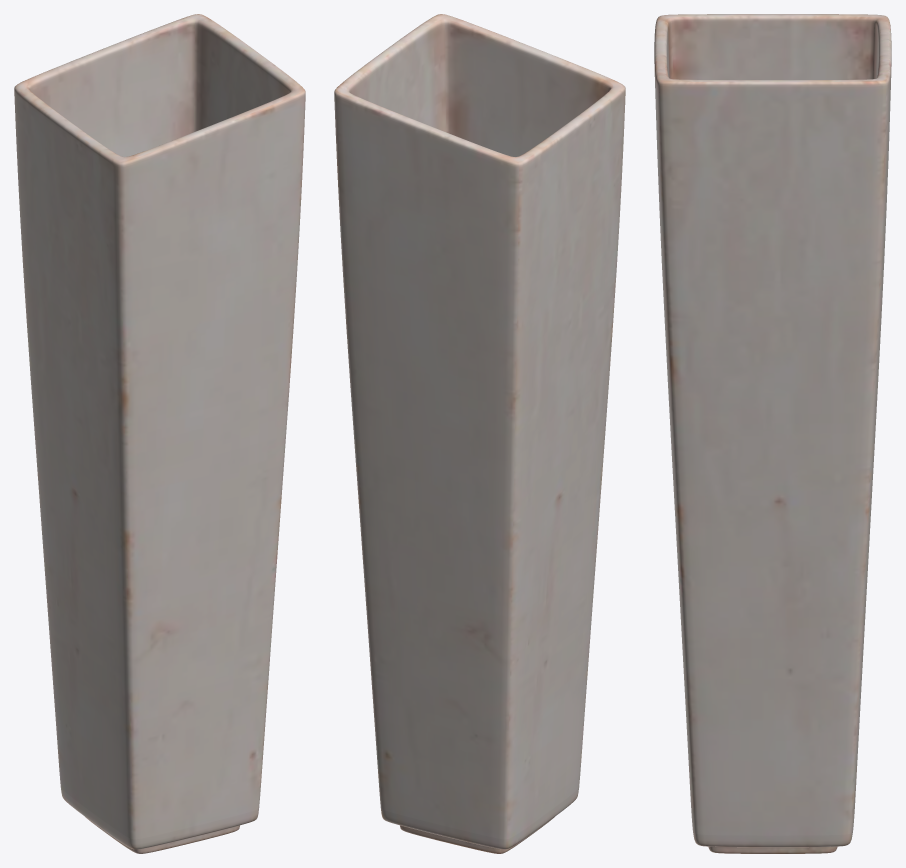
File: ceramic_vase_03.glb
3 views of the same model, side by side, from view 1: azimuth 30°, elevation 25°; view 2: azimuth 150°, elevation 25°; view 3: azimuth 270°, elevation 25° (orthographic). The views are drawn at different scales.
Visible parts, largest first — view 1: ceramic_vase_03; view 2: ceramic_vase_03; view 3: ceramic_vase_03.
Boxes of the visible parts, box(x1,y1,x2,y2) form: ceramic_vase_03: box(14, 14, 305, 853); ceramic_vase_03: box(334, 14, 625, 853); ceramic_vase_03: box(654, 14, 891, 853).
Bounding box in the file's own units: 0.1122 × 0.4144 × 0.1122.
Materials: 1 (1 with a texture image).
